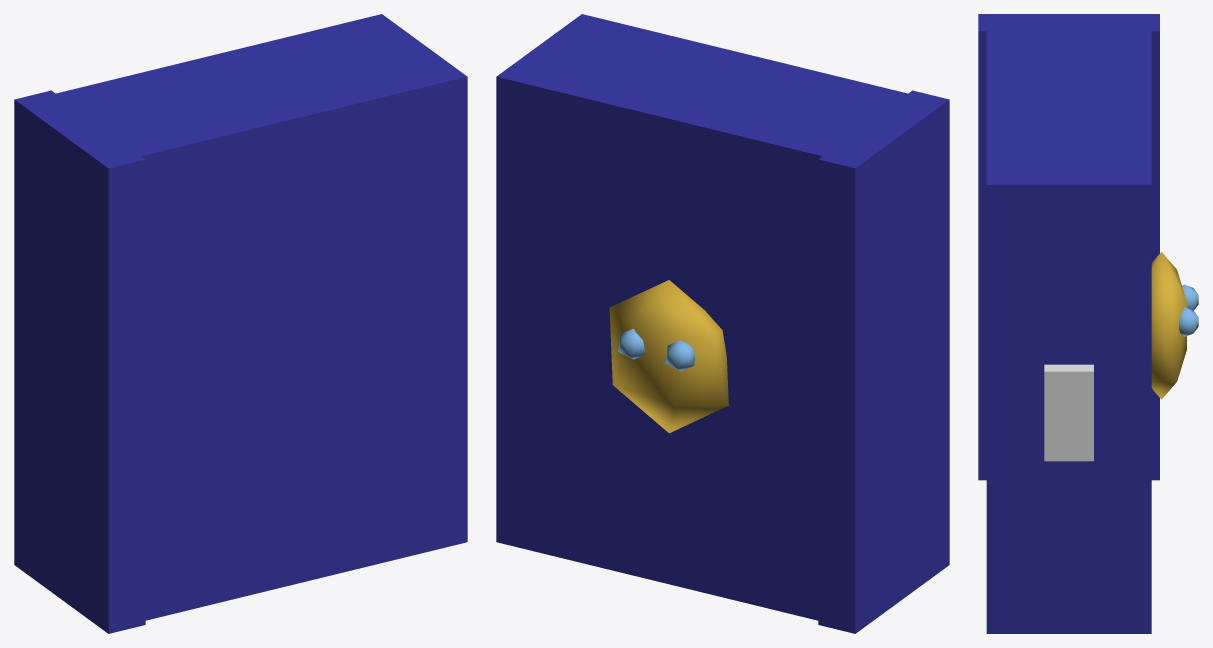
File: spell_tome.glb
3 views of the same model, side by side, from view 1: azimuth 30°, elevation 25°; view 2: azimuth 150°, elevation 25°; view 3: azimuth 270°, elevation 25° (orthographic). The views are drawn at different scales.
Visible parts, largest first — view 1: spell_tome_v0; view 2: spell_tome_v0; view 3: spell_tome_v0.
Boxes of the visible parts, x1,y1,x2,y2 form: spell_tome_v0: (14,14,467,633); spell_tome_v0: (496,14,949,633); spell_tome_v0: (978,14,1198,633).
Size of the model in its own units: 0.255 by 0.3 by 0.1335.
